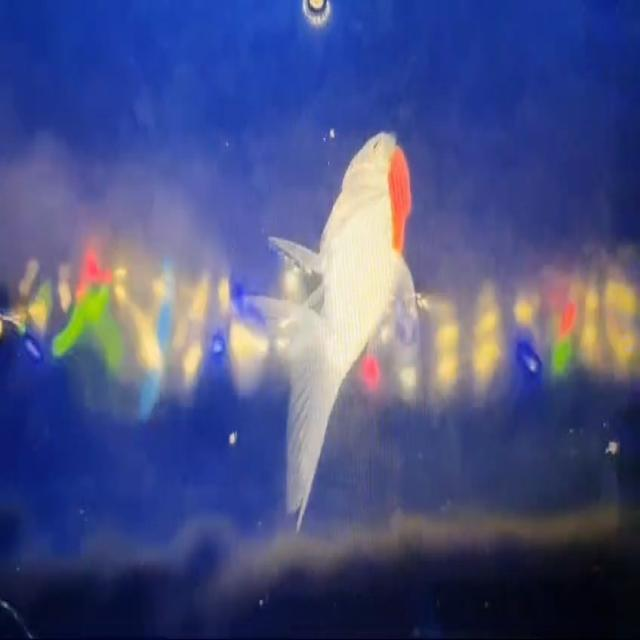fish: (256, 107, 420, 540)
